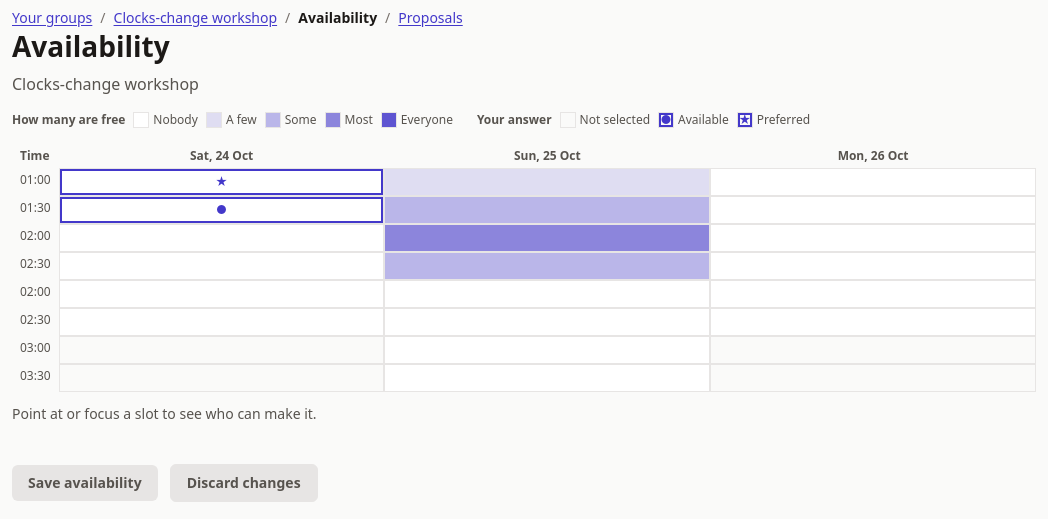
AvailabilityBoard saving › keeps a slot the server stored in both arrays in preferred alone
Step 1. Press the mouse on the cell named "Sun, 25 Oct at 01:00" → (547, 182), box [384,168,710,196]
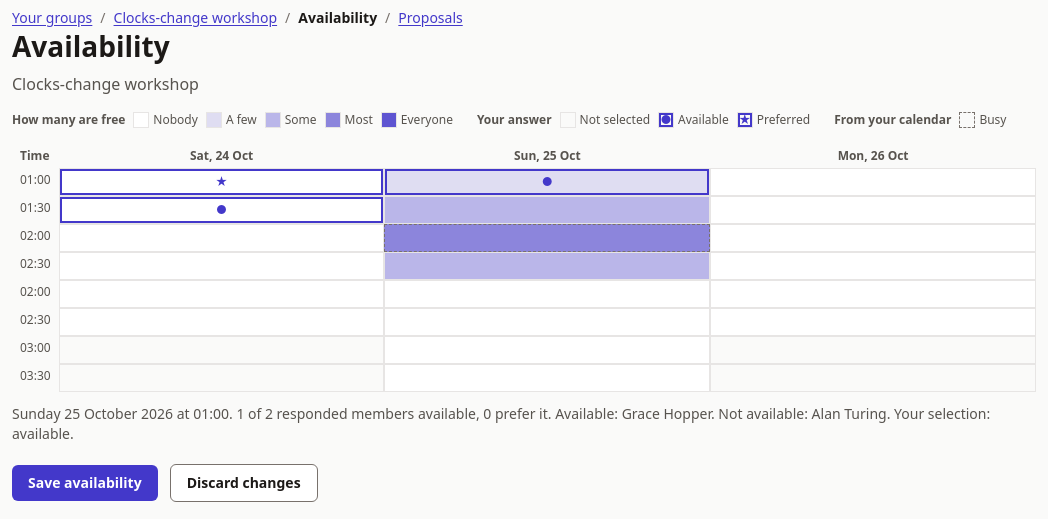
Step 2. Click the button "Save availability" → (85, 483), box [12,465,158,501]
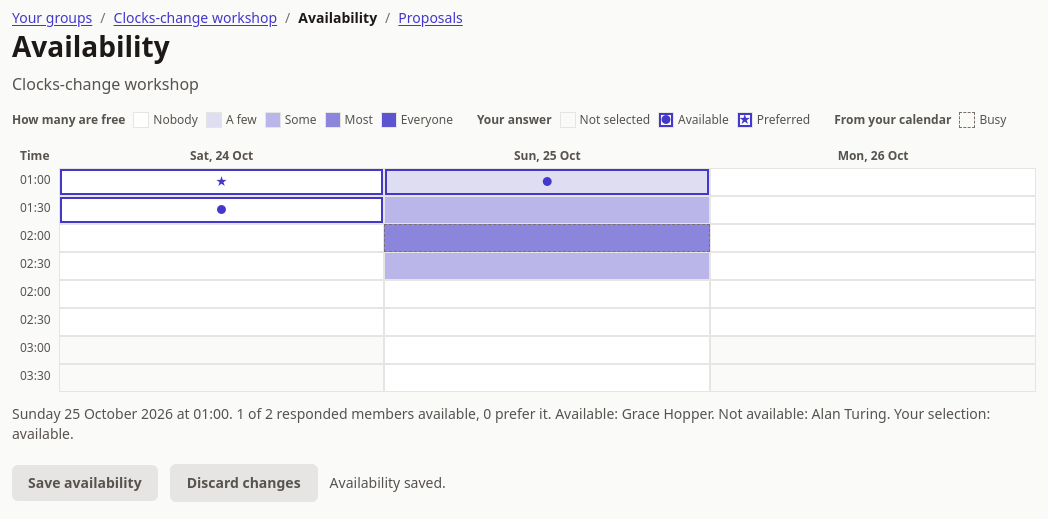
Now the text "Availability saved." is shown, box [330,473,446,493]
